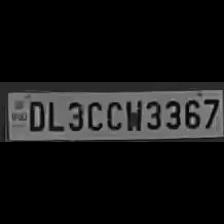3: (64, 99, 84, 131), (163, 96, 181, 130), (144, 97, 162, 130)
6: (182, 97, 200, 129)
7: (202, 96, 220, 130)
C: (85, 97, 103, 130), (104, 97, 122, 130)
D: (25, 98, 45, 132)
L: (46, 98, 62, 132)
W: (122, 98, 142, 132)
